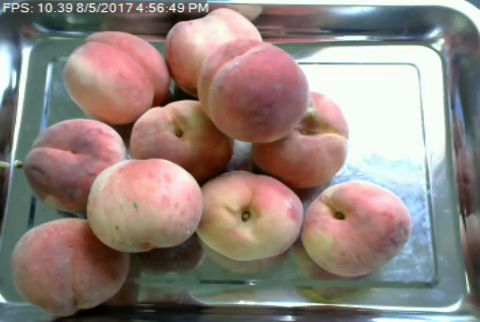Peach: (199, 38, 310, 141), (14, 216, 125, 317), (89, 155, 200, 252), (299, 181, 411, 276), (64, 29, 172, 122), (194, 170, 304, 260), (25, 119, 125, 214), (252, 90, 348, 184), (164, 8, 265, 97), (131, 100, 233, 179)
